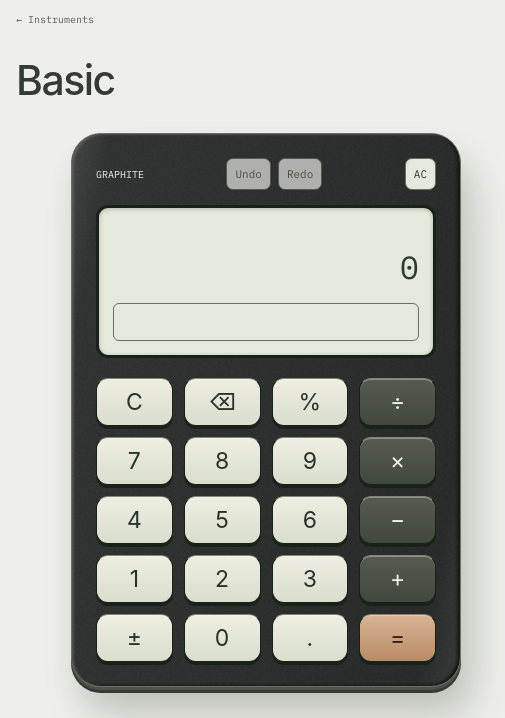
Test case: does not evaluate again on held Enter, and AC retains history
Type "2+3" into the field named "Expression". click: (266,322)
box: [113,303,419,341]
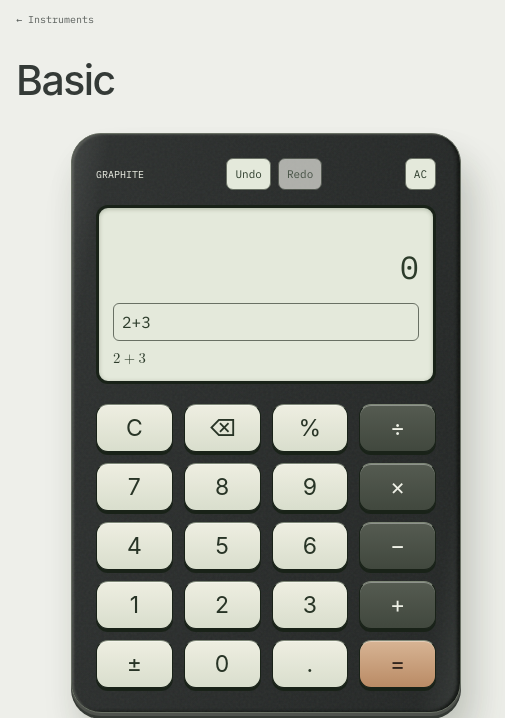
Press Enter in the field named "Expression", box [113,303,419,341]
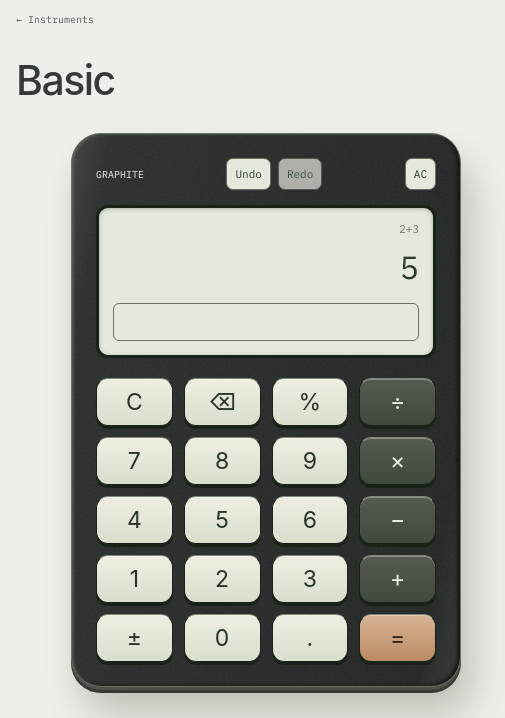
Press Enter in the field named "Expression", box [113,303,419,341]
Press Enter in the field named "Expression", box [113,303,419,341]
Click the button with aria-label "All clear". click: (420,174)
box: [405,158,436,190]
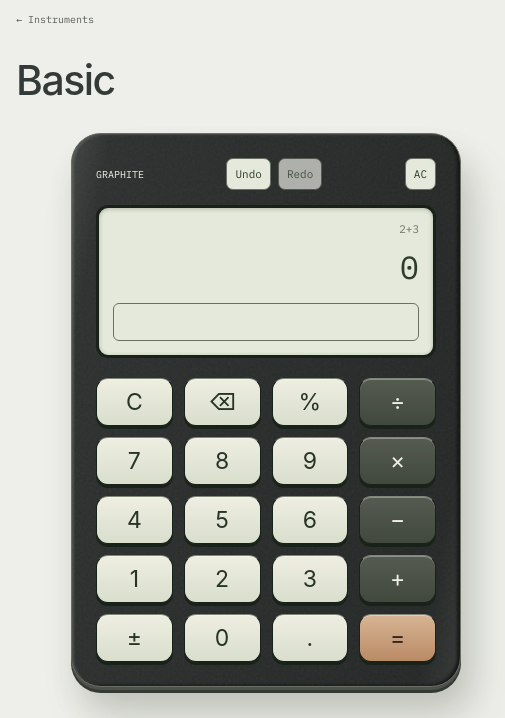
Expected: the text "0" is shown, [400,246,419,288]
